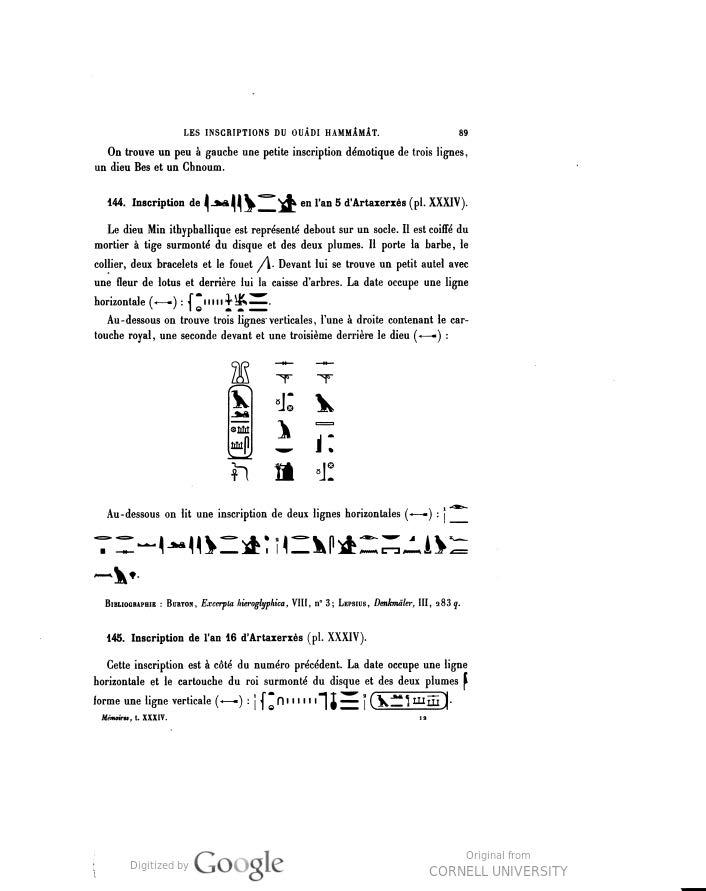circle: (221, 365, 268, 478), (366, 680, 460, 720)
